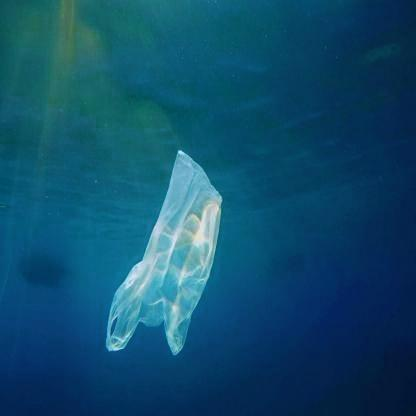pbag: (100, 143, 223, 359)
